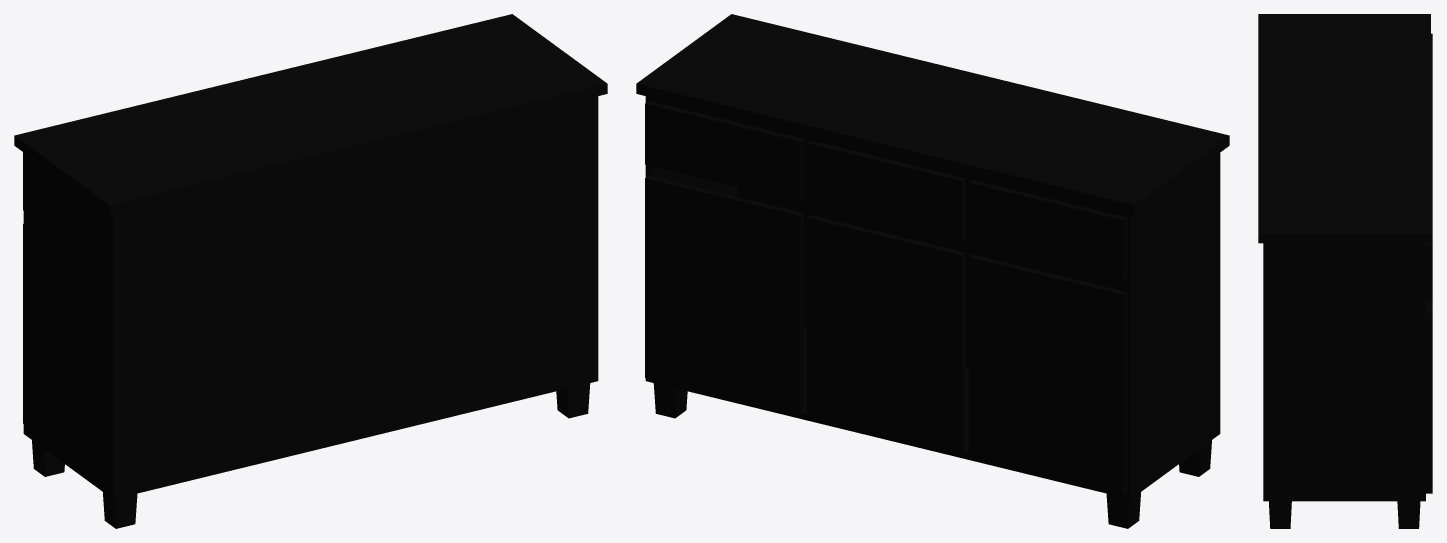
The model's file is SM_sideboard_walnut.fbx.
3 views of the same model, side by side, from view 1: azimuth 30°, elevation 25°; view 2: azimuth 150°, elevation 25°; view 3: azimuth 270°, elevation 25° (orthographic). The views are drawn at different scales.
Parts seen in each view (by area): view 1: sideboard_walnut; view 2: sideboard_walnut, sideboard_walnut_door; view 3: sideboard_walnut.
Boxes of the visible parts, x1,y1,x2,y2 form: sideboard_walnut: (14,14,607,528); sideboard_walnut: (636,14,1229,528); sideboard_walnut_door: (806,215,965,454); sideboard_walnut: (1258,14,1432,528).
Bounding box in the file's own units: 1.54 × 0.98 × 0.515.
